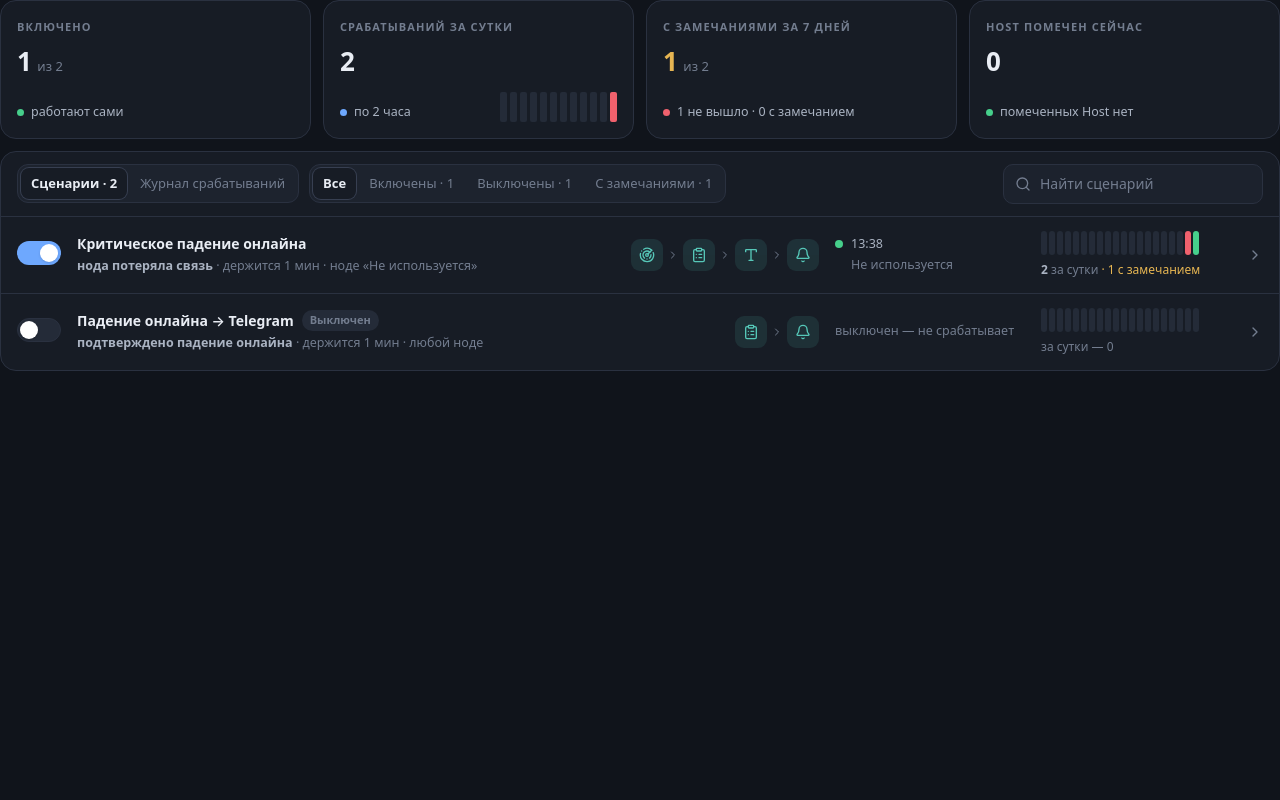
Test: Сценарии: плитки, строки, журнал и окно (витрина scenarios-2026-10b, страница A и окно A) › переключатель включает сценарий прямо в списке, нажатие на строку открывает окно
What coordinates should you click on to do the following:
click the switch named "Сценарий «Падение онлайна → Telegram» включён"
I would click on:
 (39, 330)
Its box is [17,318,61,342].
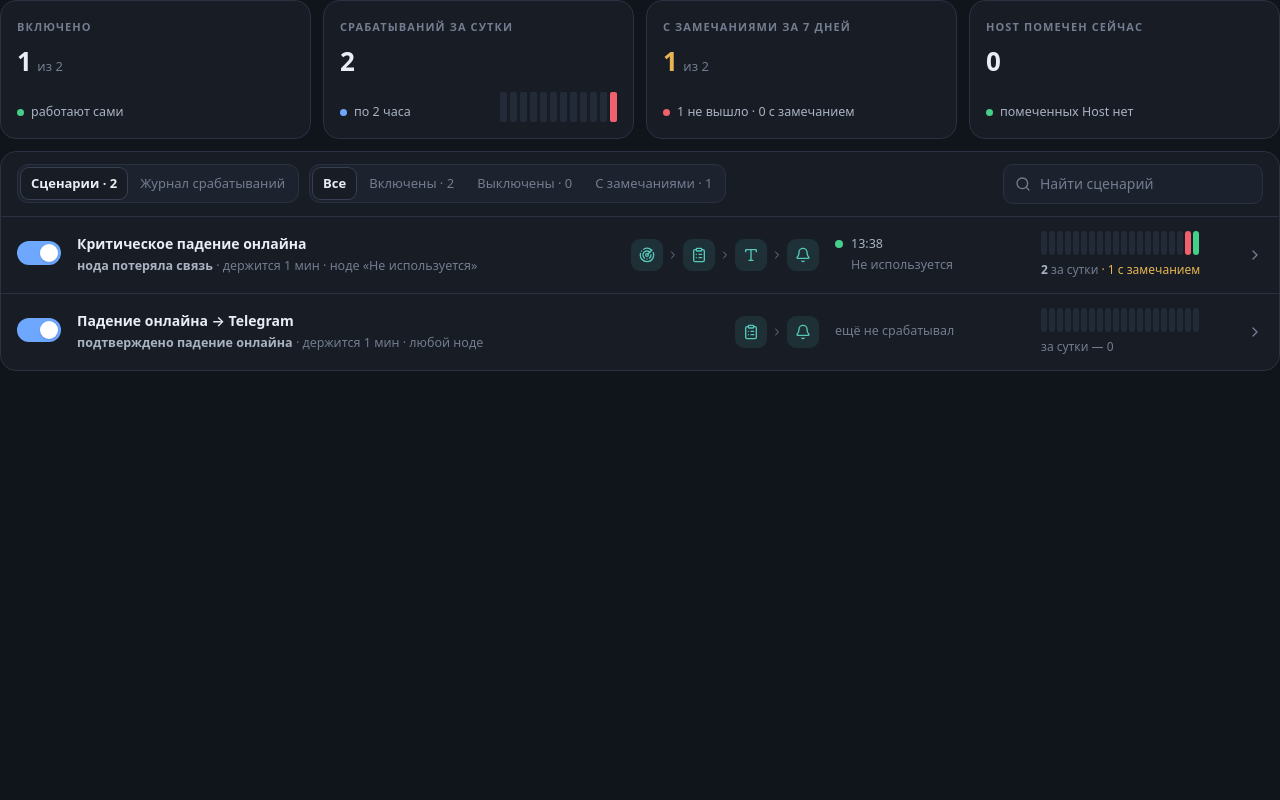
What coordinates should you click on to do the following:
click the button with aria-label "Открыть сценарий «Критическое падение онлайна»"
I would click on:
 (640, 254)
Its box is [1,216,1279,292].
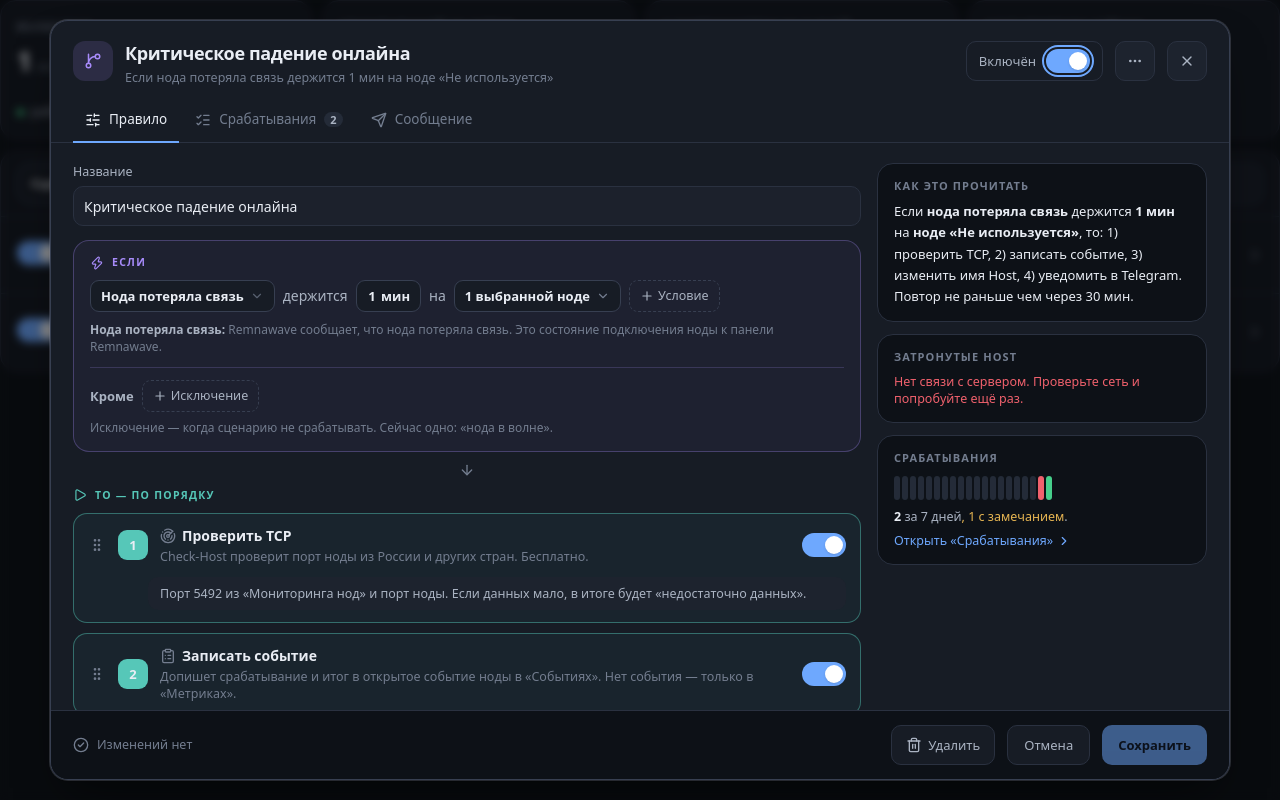
expect the dialog is shown: met
